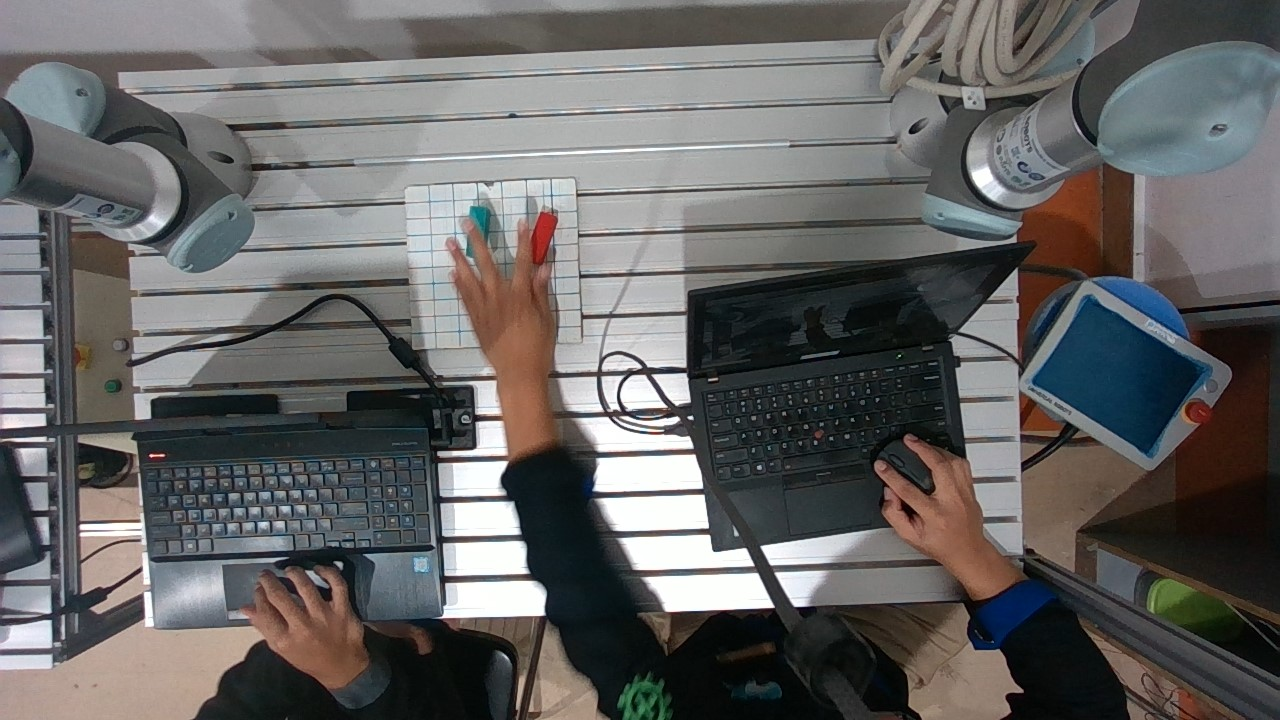box: (528, 200, 556, 271), (458, 199, 490, 261)
